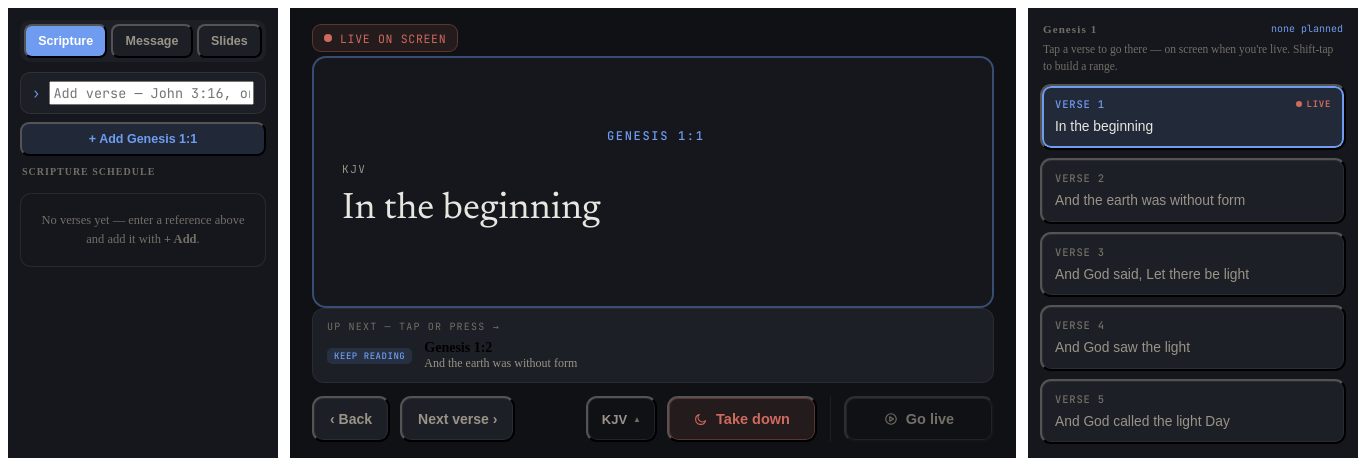
Scenario: SermonMode — direct preview to live › a rail tap while live keeps Go live ghosted during the broadcast gap
Expected: the text "Verse 3" is shown, [1055,244,1105,258]
Click the button "Verse 3 And God said, Let there be light" at (1193, 264), box [1040,232,1346,297]
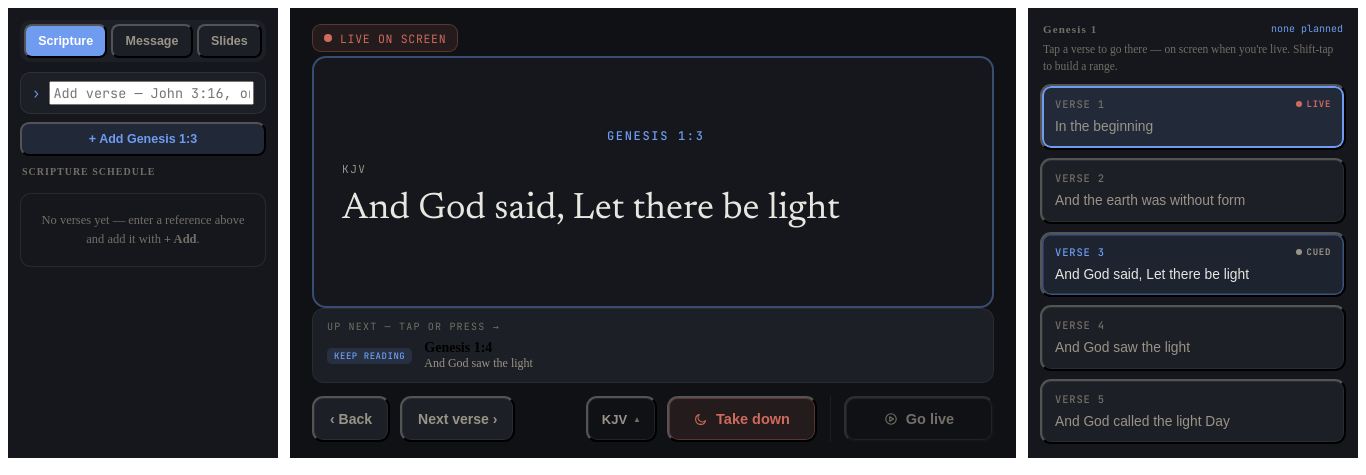
Expected: the button "Go live" is disabled, [844,396,994,442]
Now the text "Genesis 1:3" is shown, box [607,128,705,144]
